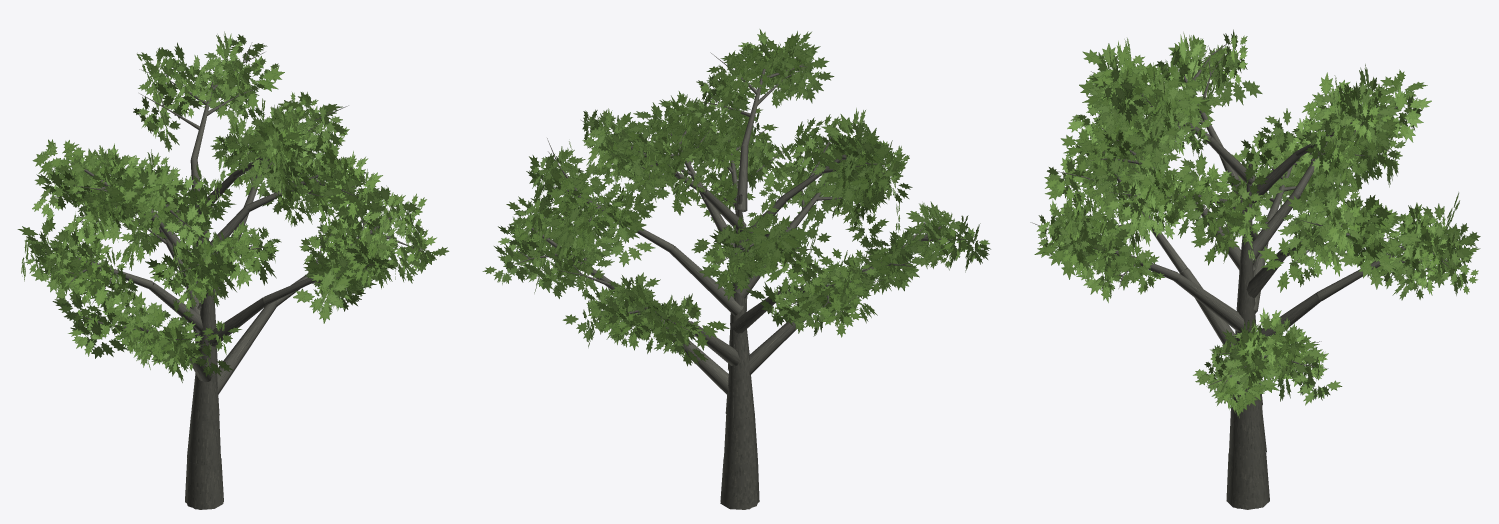
The model's file is maple-92374.glb.
3 renders of one model, left to right at view 1: azimuth 30°, elevation 25°; view 2: azimuth 150°, elevation 25°; view 3: azimuth 270°, elevation 25°, orthographic. The views are drawn at different scales.
Parts seen in each view (by area): view 1: near_leaves, far_leaves, near_bark, far_bark, near_winter; view 2: near_leaves, far_leaves, near_bark, far_bark, near_winter; view 3: near_leaves, far_leaves, near_bark, far_bark, near_winter.
Boxes of the visible parts, bbox=[...] form: near_leaves: bbox=[22, 33, 440, 376]; far_leaves: bbox=[17, 31, 449, 382]; near_bark: bbox=[70, 63, 407, 509]; far_bark: bbox=[75, 81, 406, 509]; near_winter: bbox=[46, 42, 432, 348]; near_leaves: bbox=[482, 33, 989, 364]; far_leaves: bbox=[498, 29, 990, 366]; near_bark: bbox=[531, 68, 950, 509]; far_bark: bbox=[530, 69, 949, 509]; near_winter: bbox=[511, 54, 966, 331]; near_leaves: bbox=[1038, 29, 1480, 410]; far_leaves: bbox=[1034, 32, 1477, 418]; near_bark: bbox=[1083, 56, 1434, 509]; far_bark: bbox=[1084, 56, 1433, 508]; near_winter: bbox=[1030, 41, 1457, 386].
Size of the model in its own units: 10.88 by 10.22 by 9.01.
Materials: 2 (2 with a texture image).
